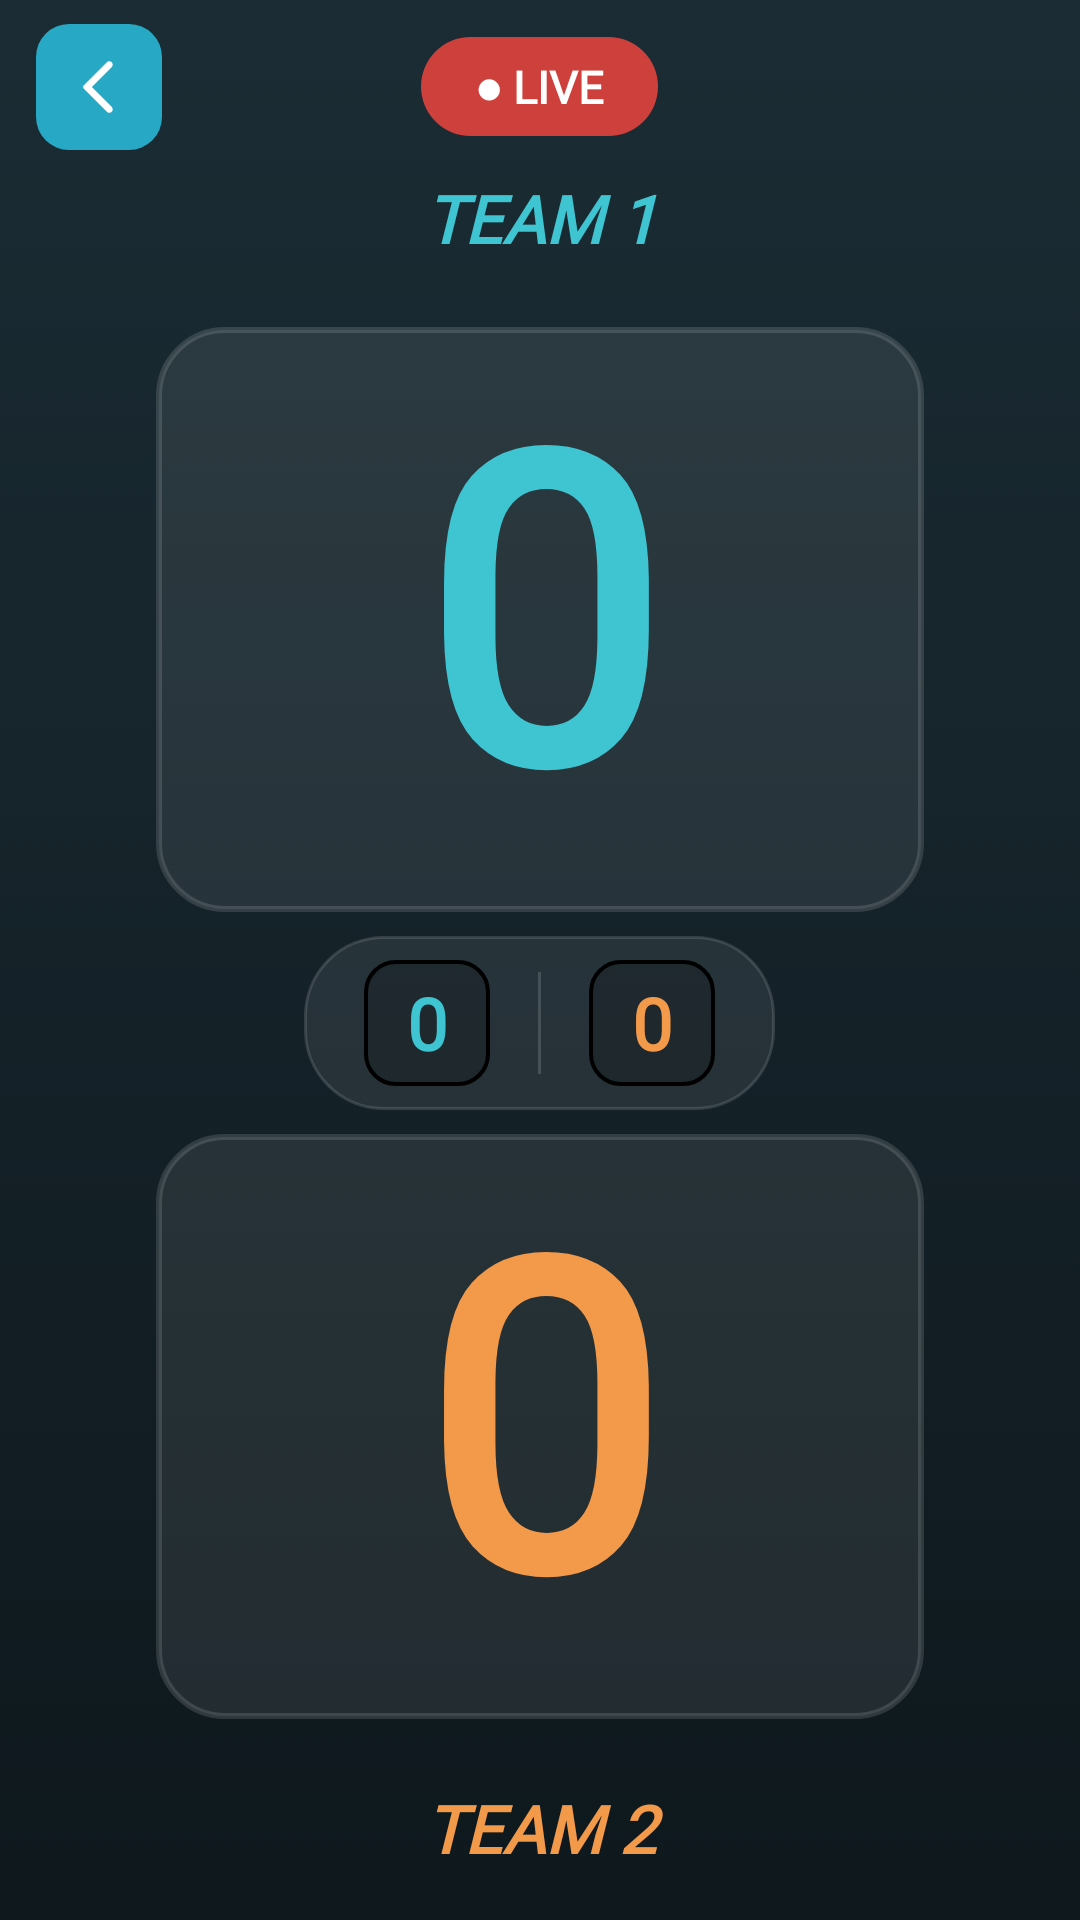

Icon click points for this 1080*1920 phone screenshot, format point (x, y):
BACK: point (99, 87)
